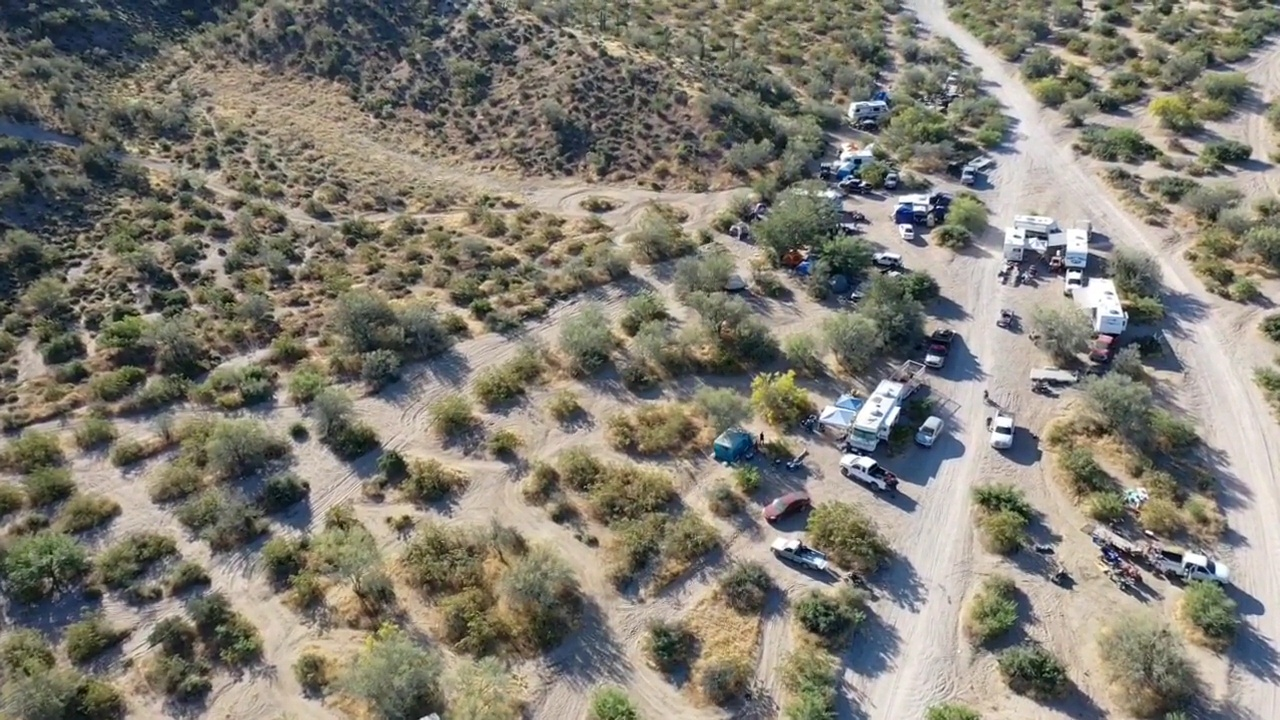araba: (835, 451, 902, 496), (758, 489, 814, 525), (985, 406, 1019, 451), (911, 413, 946, 450), (922, 340, 949, 367), (871, 246, 905, 267), (960, 164, 978, 188), (898, 219, 914, 241)
kamyonet: (1153, 540, 1235, 588), (768, 532, 825, 569)
otobus: (849, 374, 910, 455), (1088, 272, 1124, 338), (849, 95, 892, 128)
